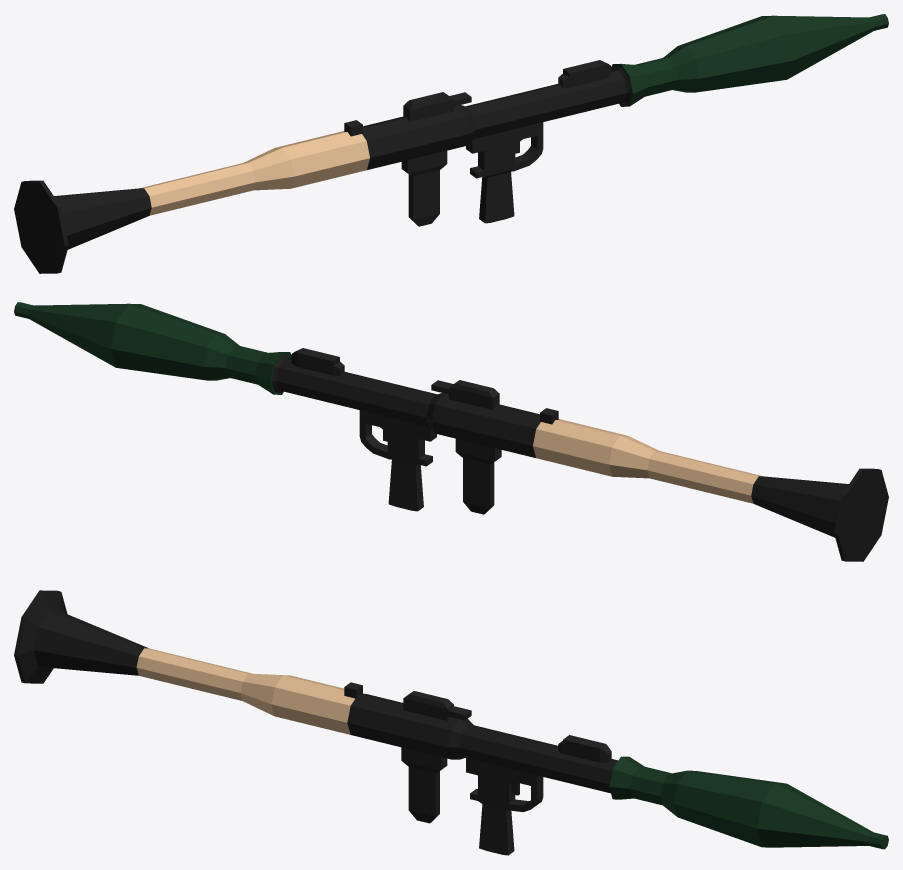
The model's file is RPG.fbx.
3 renders of one model, top to bottom at view 1: azimuth 30°, elevation 25°; view 2: azimuth 150°, elevation 25°; view 3: azimuth 330°, elevation 25°, orthographic.
Visible parts, largest first — view 1: RPG; view 2: RPG; view 3: RPG.
Part boxes in pixels (x1,y1,x2,y2): RPG: (14,14,888,273); RPG: (14,302,888,561); RPG: (14,590,888,855).
Bounding box in the file's own units: 4291 × 727 × 448.
